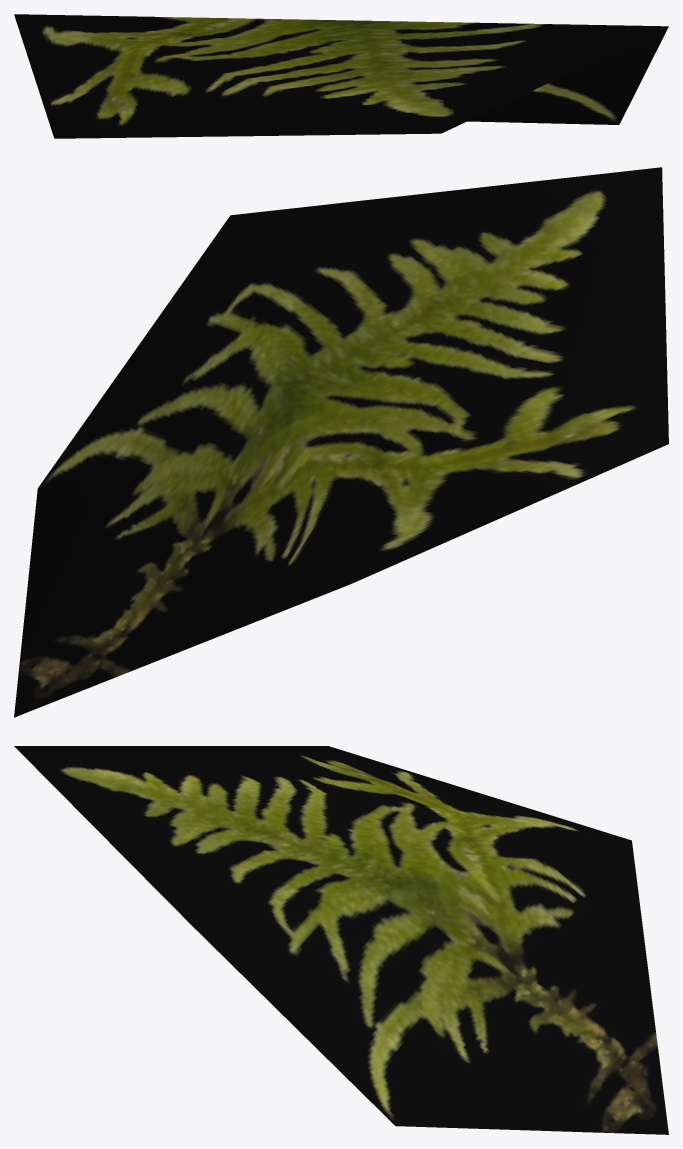
Rendered from moss_01_j.glb.
3 views of the same model, one above another, from view 1: azimuth 30°, elevation 25°; view 2: azimuth 150°, elevation 25°; view 3: azimuth 270°, elevation 25° (orthographic). The views are drawn at different scales.
Visible parts, largest first — view 1: moss_01_j_LOD0; view 2: moss_01_j_LOD0; view 3: moss_01_j_LOD0.
Part boxes in pixels (x1,y1,x2,y2): moss_01_j_LOD0: (14, 14, 668, 138); moss_01_j_LOD0: (14, 167, 668, 717); moss_01_j_LOD0: (14, 746, 668, 1134).
Size of the model in its own units: 0.0166 by 0.00889 by 0.0188.
1 material, 1 textured.
